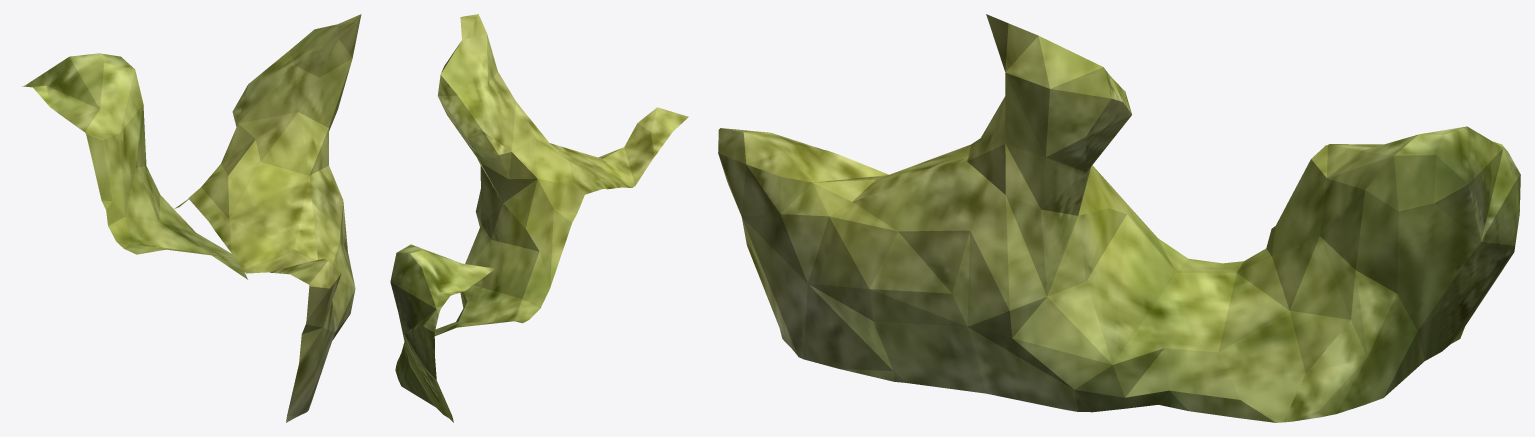
3 renders of one model, left to right at view 1: azimuth 30°, elevation 25°; view 2: azimuth 150°, elevation 25°; view 3: azimuth 270°, elevation 25°, orthographic. The views are drawn at different scales.
Size of the model in its own units: 0.5103 by 0.9325 by 1.61.
1 material, 1 textured.
